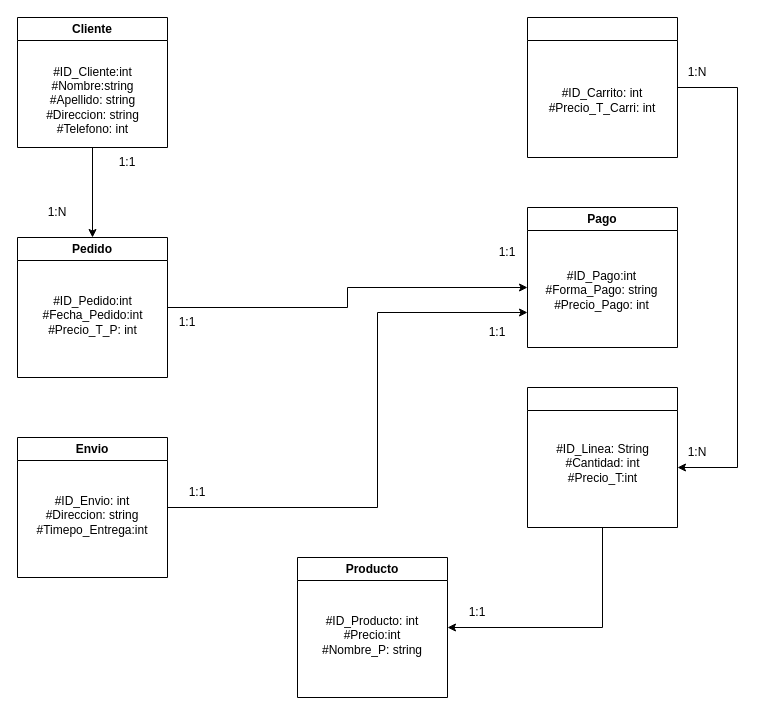
The diagram is 763 pixels wide and 715 high, and some of its shapes have lost their labels. The shapes that lost their labels are listed below. From the top down, each one's box as (x1, y1, x2, y2) in pixels, then its label:
(526, 16, 678, 158): Carrito_Compra
(526, 386, 678, 528): LineaProducto
